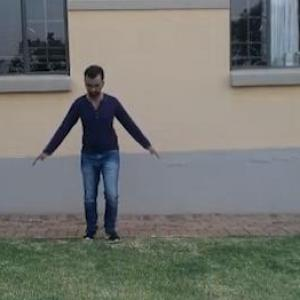land: (25, 62, 165, 246)
